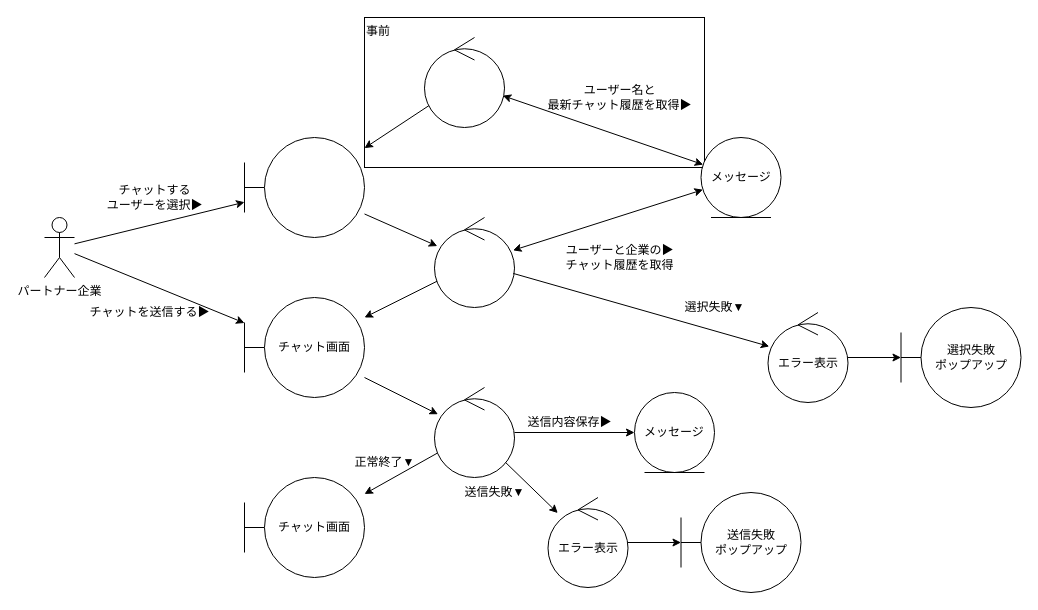
Image size: 1038x610. Some labels were removed from this diagram. The centre of each missing label's shape, as x and y in pixels:
チャット 履歴を取得: pixel 474 262
チャット履歴 を保存: pixel 474 432
チャット相手 指定画面: pixel 304 187
最新チャットを取得: pixel 464 82
